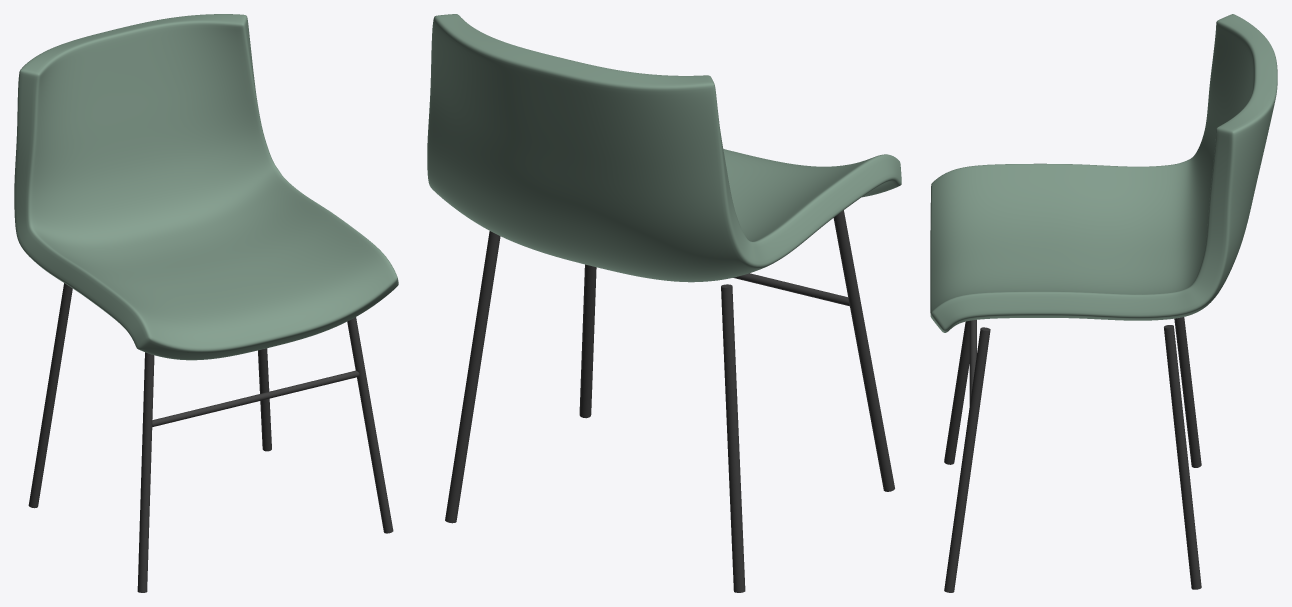
Rendered from shell_chair.glb.
3 views of the same model, side by side, from view 1: azimuth 30°, elevation 25°; view 2: azimuth 150°, elevation 25°; view 3: azimuth 270°, elevation 25° (orthographic). The views are drawn at different scales.
Parts seen in each view (by area): view 1: Shell, Rod_-0.2-0.17, Rod_-0.190.13, Rod_0.2-0.17, RodBrace_F, Rod_0.190.13; view 2: Shell, Rod_-0.190.13, Rod_0.190.13, Rod_-0.2-0.17, Rod_0.2-0.17, RodBrace_F; view 3: Shell, Rod_0.2-0.17, Rod_0.190.13, Rod_-0.190.13, Rod_-0.2-0.17, RodBrace_F.
Part boxes in pixels (box(x1,y1,x2,y2)): Shell: box(14, 14, 398, 360); Rod_-0.2-0.17: box(137, 352, 154, 592); Rod_-0.190.13: box(28, 283, 72, 508); Rod_0.2-0.17: box(347, 317, 393, 533); RodBrace_F: box(152, 370, 359, 426); Rod_0.190.13: box(258, 348, 271, 451); Shell: box(427, 14, 901, 282); Rod_-0.190.13: box(721, 284, 745, 592); Rod_0.190.13: box(445, 231, 500, 523); Rod_-0.2-0.17: box(833, 210, 894, 491); Rod_0.2-0.17: box(579, 264, 596, 418); RodBrace_F: box(733, 273, 849, 306); Shell: box(930, 14, 1277, 332); Rod_0.2-0.17: box(944, 327, 990, 592); Rod_0.190.13: box(1164, 325, 1201, 589); Rod_-0.190.13: box(1174, 317, 1201, 467); Rod_-0.2-0.17: box(944, 321, 969, 464); RodBrace_F: box(969, 320, 976, 405).
Bounding box in the file's own units: 0.5362 × 0.8241 × 0.5685.
